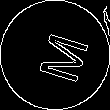M_W: (24, 26, 86, 84)
